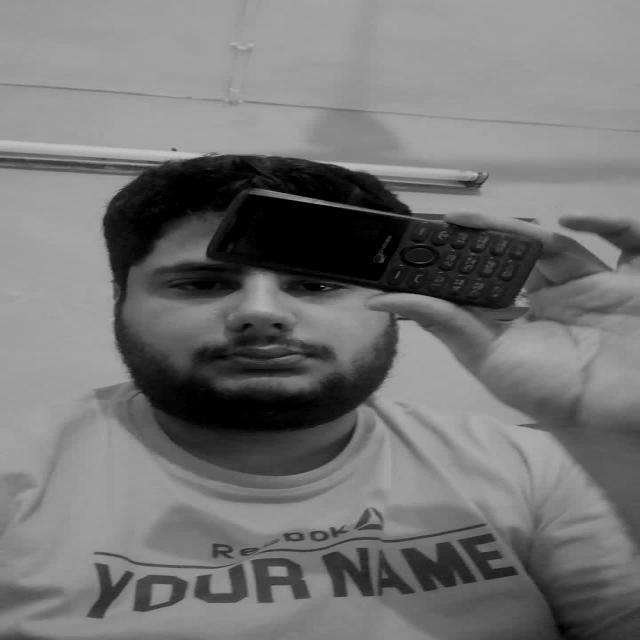fake: (203, 186, 542, 312)
real: (158, 265, 253, 305)
